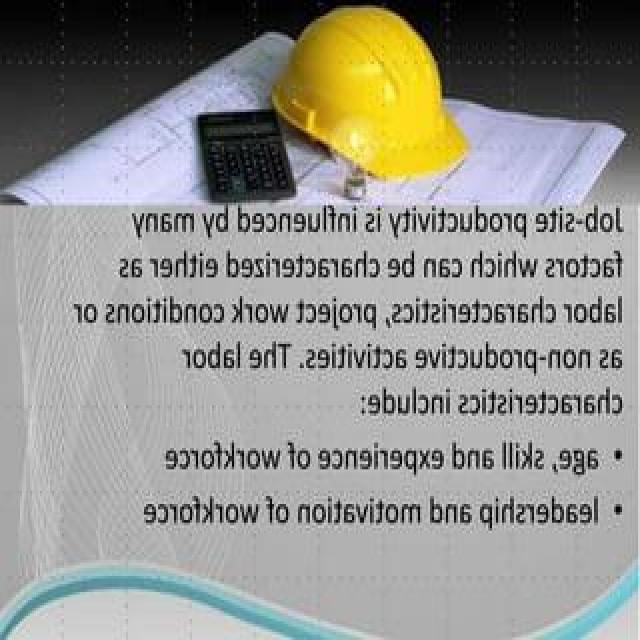Safety-Helmet: (264, 0, 474, 189)
